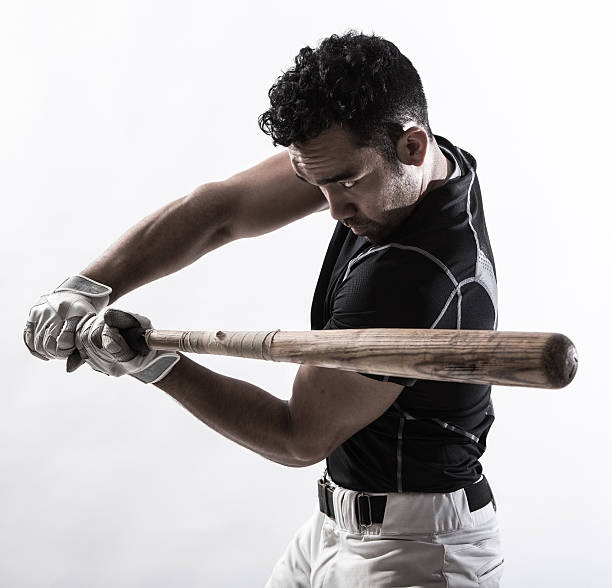bita: (136, 324, 574, 392)
